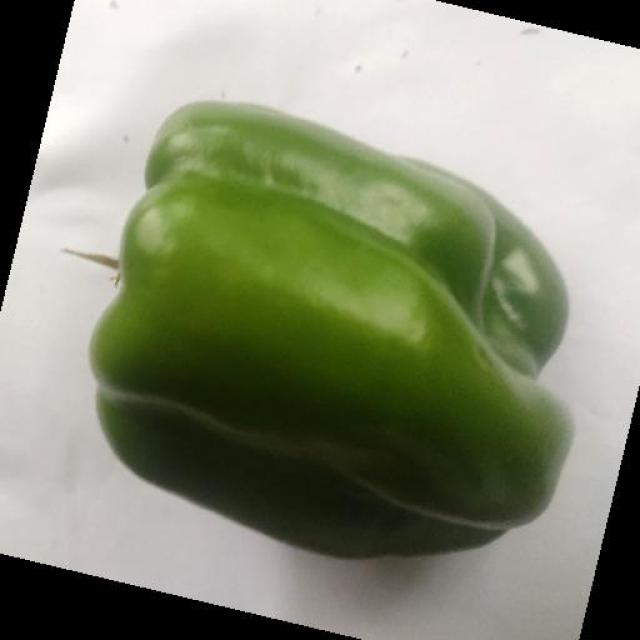Fresh_Capsicum: (103, 98, 567, 559)
